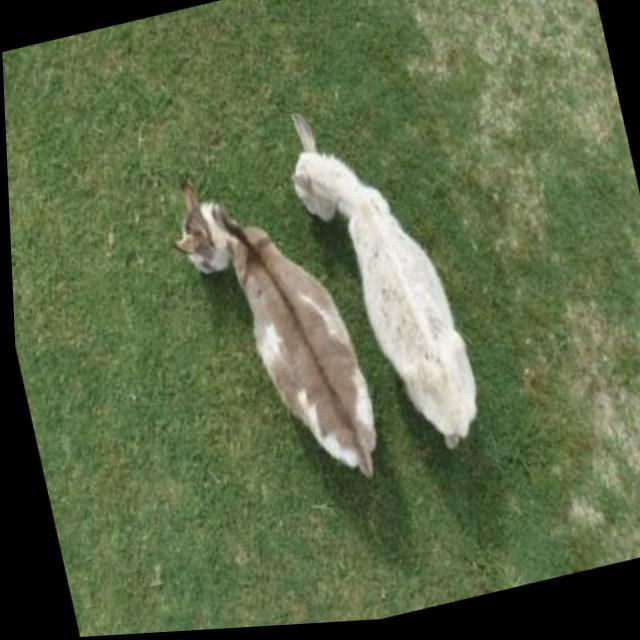Donkey: (158, 145, 386, 514), (276, 83, 486, 482)
